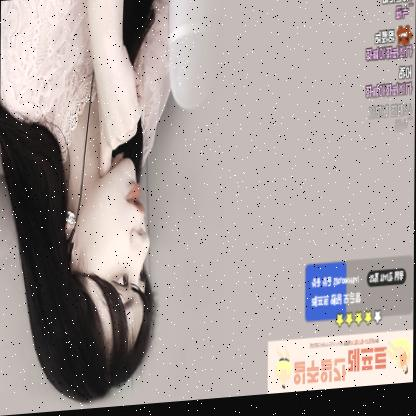streamer: (0, 0, 171, 410)
